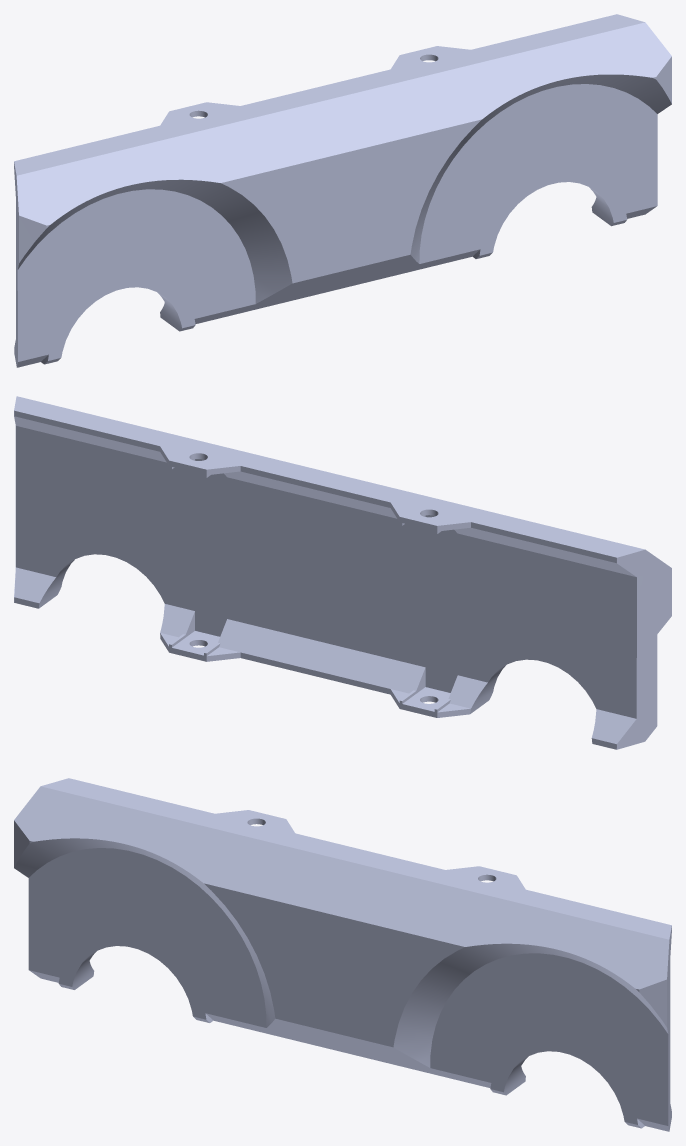
3 views of the same model, one above another, from view 1: azimuth 30°, elevation 25°; view 2: azimuth 150°, elevation 25°; view 3: azimuth 330°, elevation 25° (orthographic).
Parts seen in each view (by area): view 1: node0; view 2: node0; view 3: node0.
Boxes of the visible parts, bbox=[...] form: node0: bbox=[14, 14, 671, 367]; node0: bbox=[14, 396, 671, 749]; node0: bbox=[14, 778, 671, 1131].
Bounding box in the file's own units: 0.2436 × 0.0685 × 0.0312.
